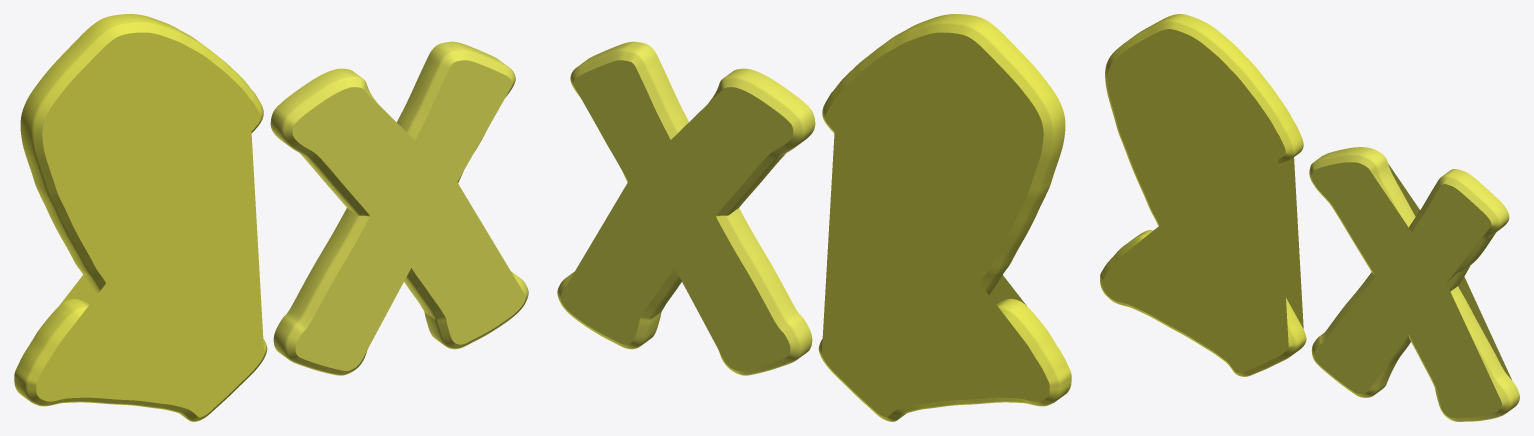
File: powerupspordos.fbx
3 renders of one model, left to right at view 1: azimuth 30°, elevation 25°; view 2: azimuth 150°, elevation 25°; view 3: azimuth 330°, elevation 25°, orthographic. The views are drawn at different scales.
Visible parts, largest first — view 1: bevelPolygon1, bevelPolygon2; view 2: bevelPolygon1, bevelPolygon2; view 3: bevelPolygon1, bevelPolygon2.
Part boxes in pixels (x1=…): bevelPolygon1: x1=14, y1=14, x2=267, y2=421; bevelPolygon2: x1=270, y1=41, x2=528, y2=375; bevelPolygon1: x1=818, y1=14, x2=1071, y2=421; bevelPolygon2: x1=557, y1=41, x2=815, y2=375; bevelPolygon1: x1=1100, y1=14, x2=1306, y2=376; bevelPolygon2: x1=1309, y1=147, x2=1519, y2=421.
Bounding box in the file's own units: 6.95 × 5.49 × 0.45.
